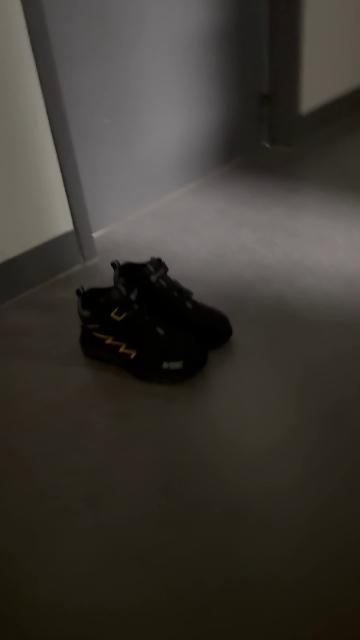shoe_worn: (74, 286, 207, 384), (109, 258, 235, 351)
